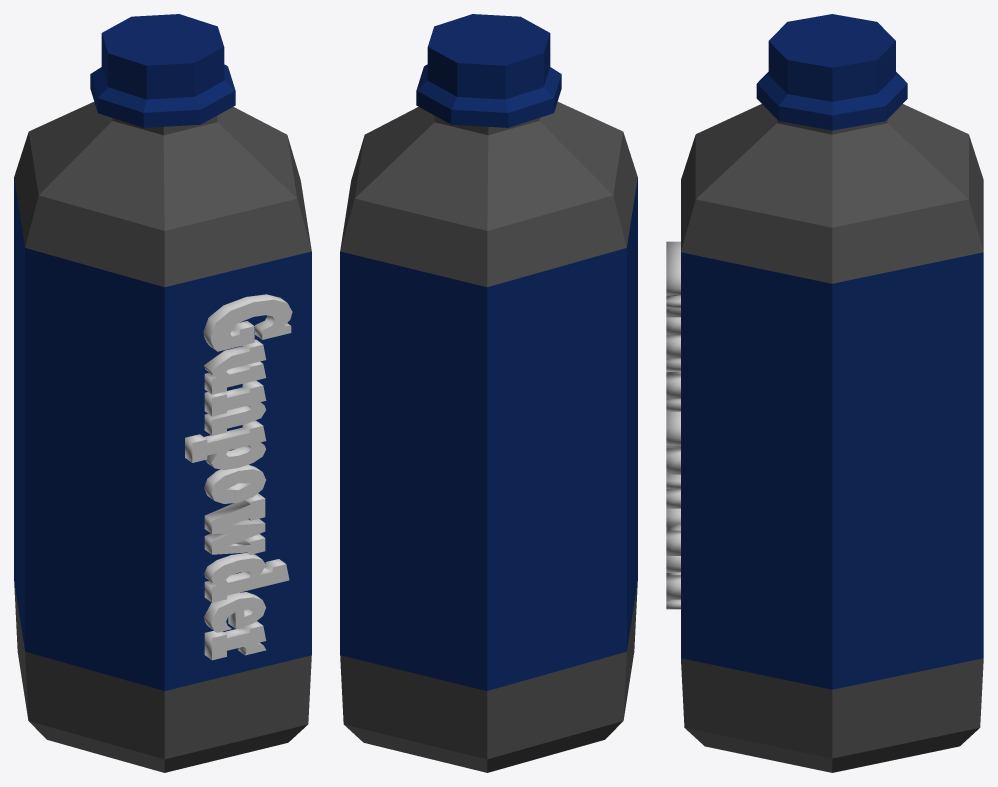
The model's file is gunpowder.glb.
3 renders of one model, left to right at view 1: azimuth 30°, elevation 25°; view 2: azimuth 150°, elevation 25°; view 3: azimuth 270°, elevation 25°, orthographic.
Visible parts, largest first — view 1: Gunpowder_Large; view 2: Gunpowder_Large; view 3: Gunpowder_Large.
Boxes of the visible parts, x1,y1,x2,y2 form: Gunpowder_Large: (14,14,311,772); Gunpowder_Large: (340,14,637,772); Gunpowder_Large: (666,14,983,772).
Bounding box in the file's own units: 0.0656 × 0.1526 × 0.0651.
Materials: 1 (1 with a texture image).
